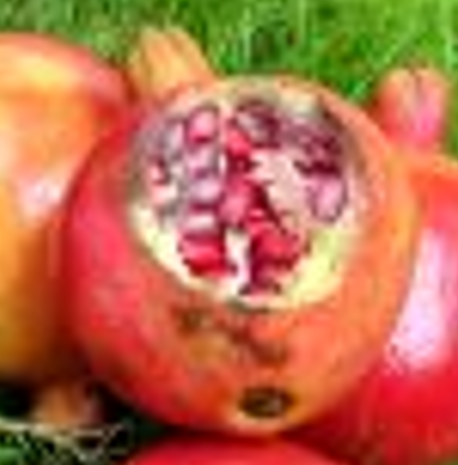pomegranate_C: (53, 22, 420, 440)
